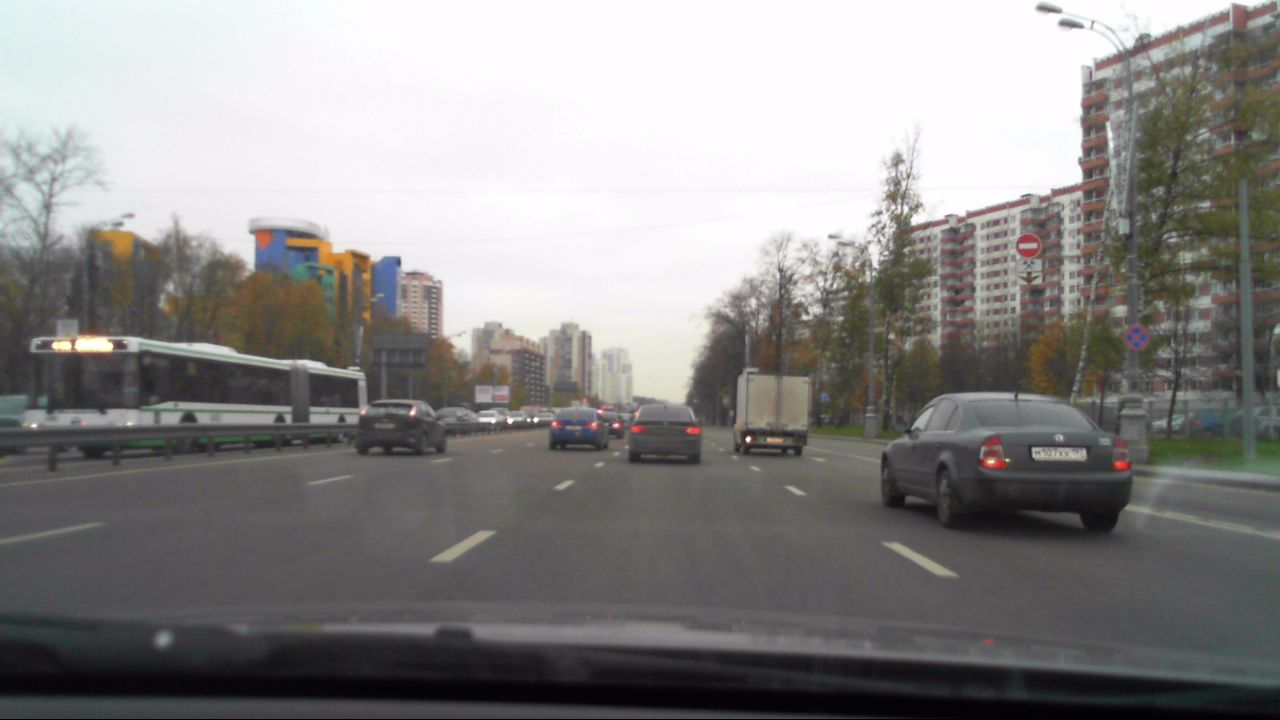No Parking: (1120, 324, 1148, 351)
